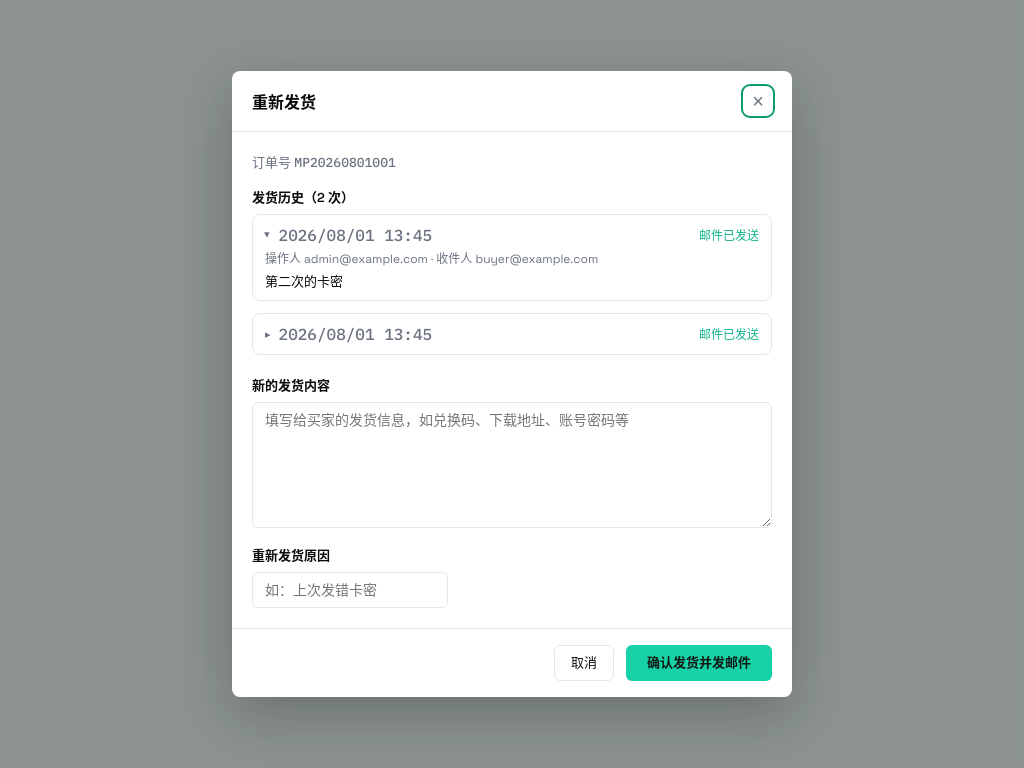
发货历史 › 点折叠条目的标题行可展开看内容，再点收起
This screenshot has width=1024, height=768.
Click the 2nd button with class "history-head".
click(355, 334)  # box [265, 324, 759, 344]
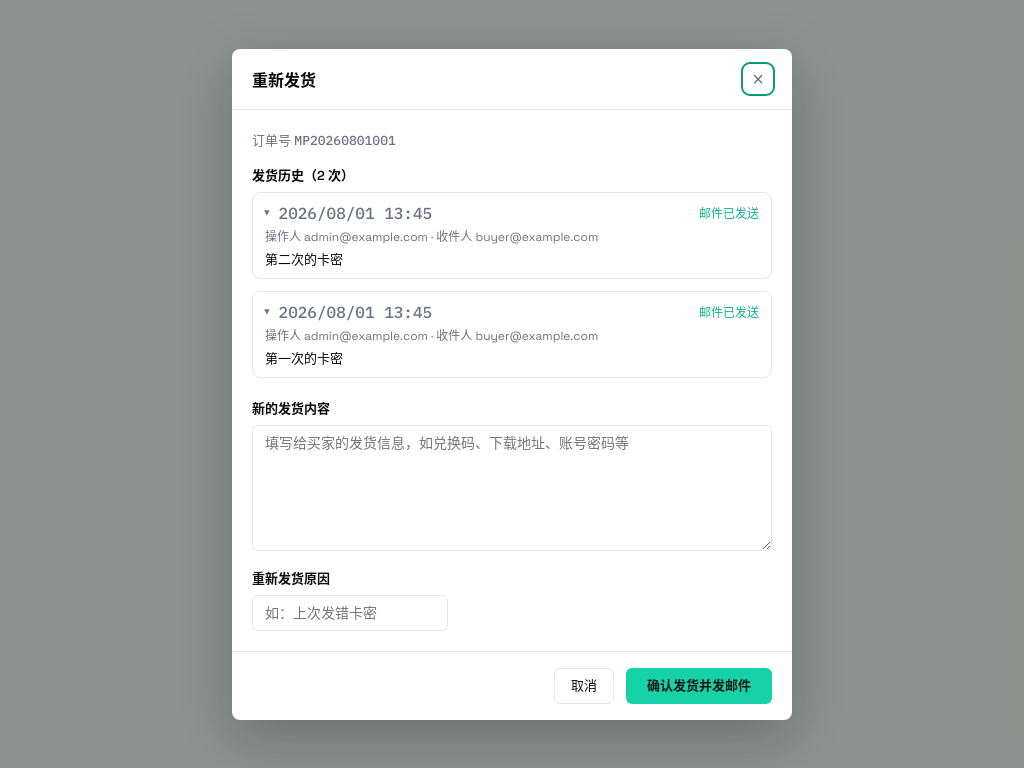
Expected: the list item with class "history-item" shows "第一次的卡密", [265, 350, 343, 366]
Expected: the 2nd button with class "history-head" is expanded
Click the 2nd button with class "history-head".
click(355, 312)  # box [265, 302, 759, 322]
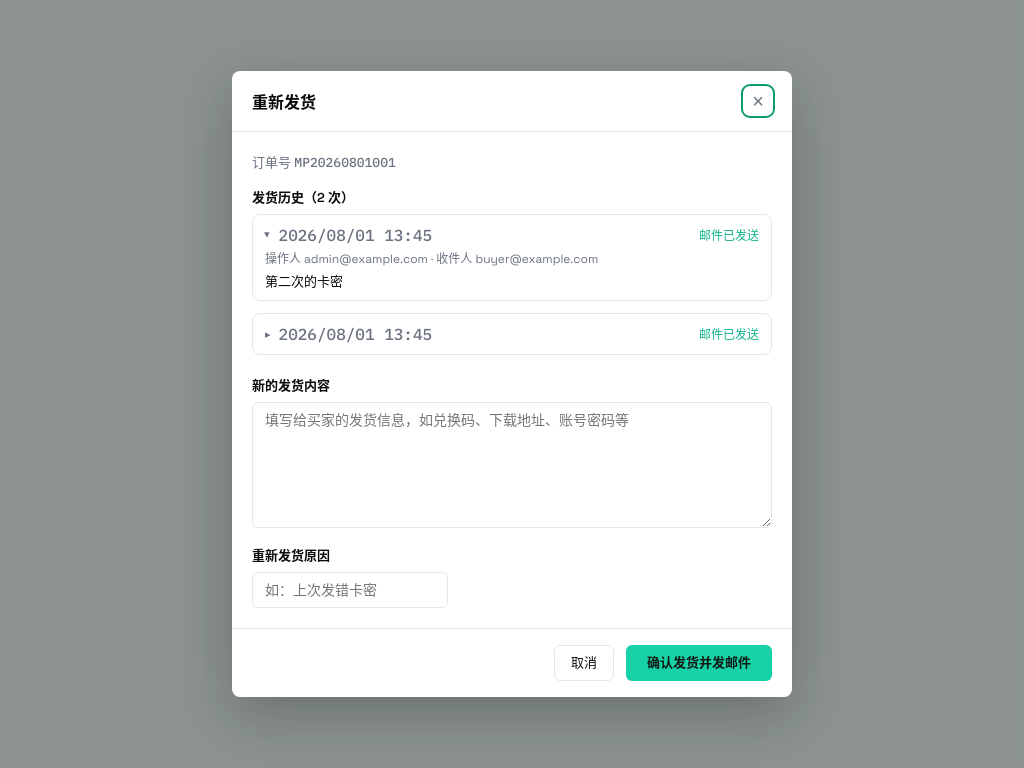
Expected: the text with class "history-item" no longer shows "第一次的卡密"
